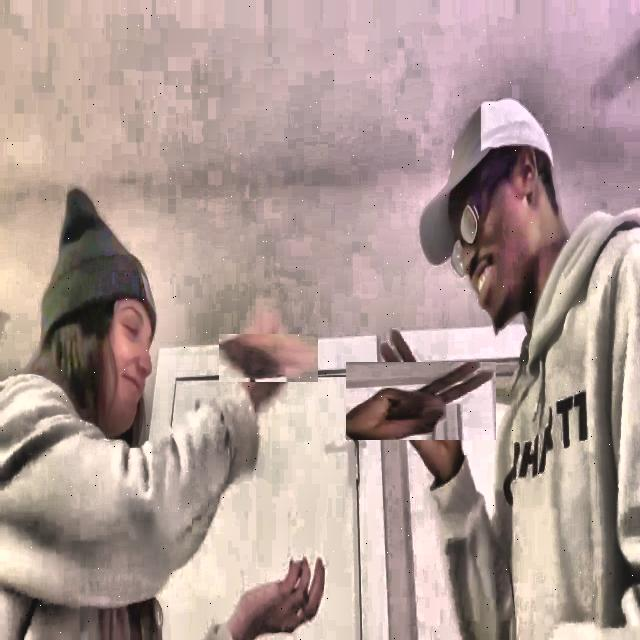not-gloved: (364, 344, 478, 458), (231, 321, 305, 395)
